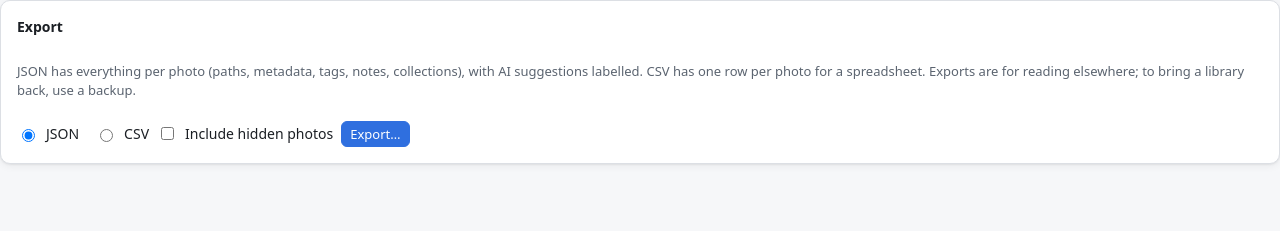
Test: Export panel › asks where to save, exports, and says where it went
Click the radio button labelled "CSV" at (107, 136), box [100,129,113,142]
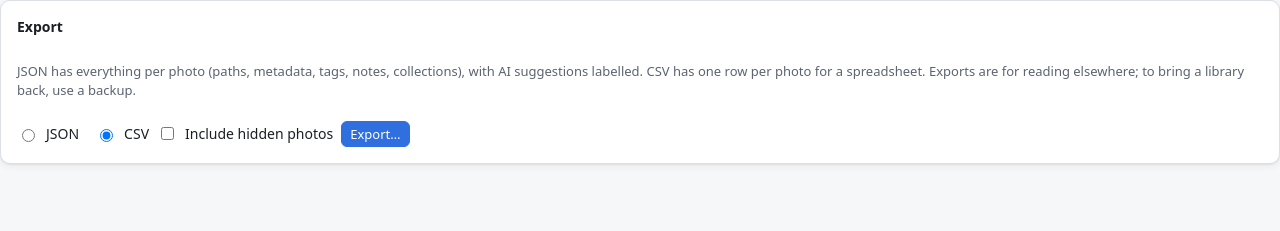
Click the checkbox labelled "Include hidden photos" at (168, 134), box [161,128,174,140]
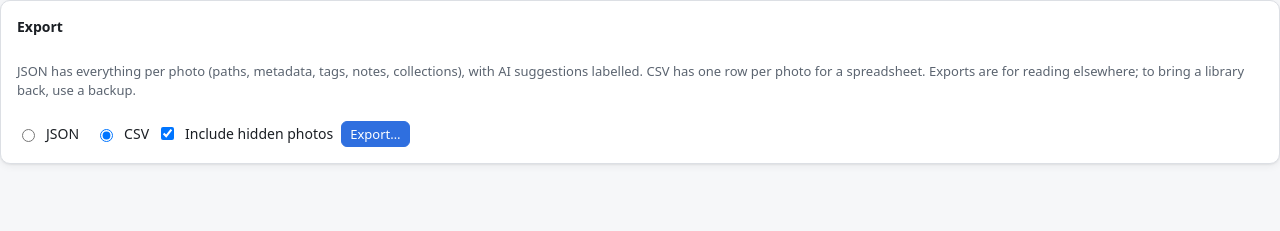
Click the button "Export…" at (375, 134), box [341,121,410,147]
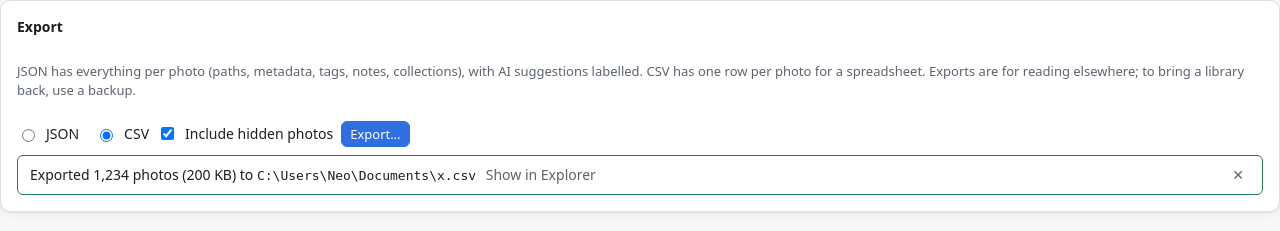
Now the text "Exported 1,234 photos" is shown, box [30,164,602,186]
